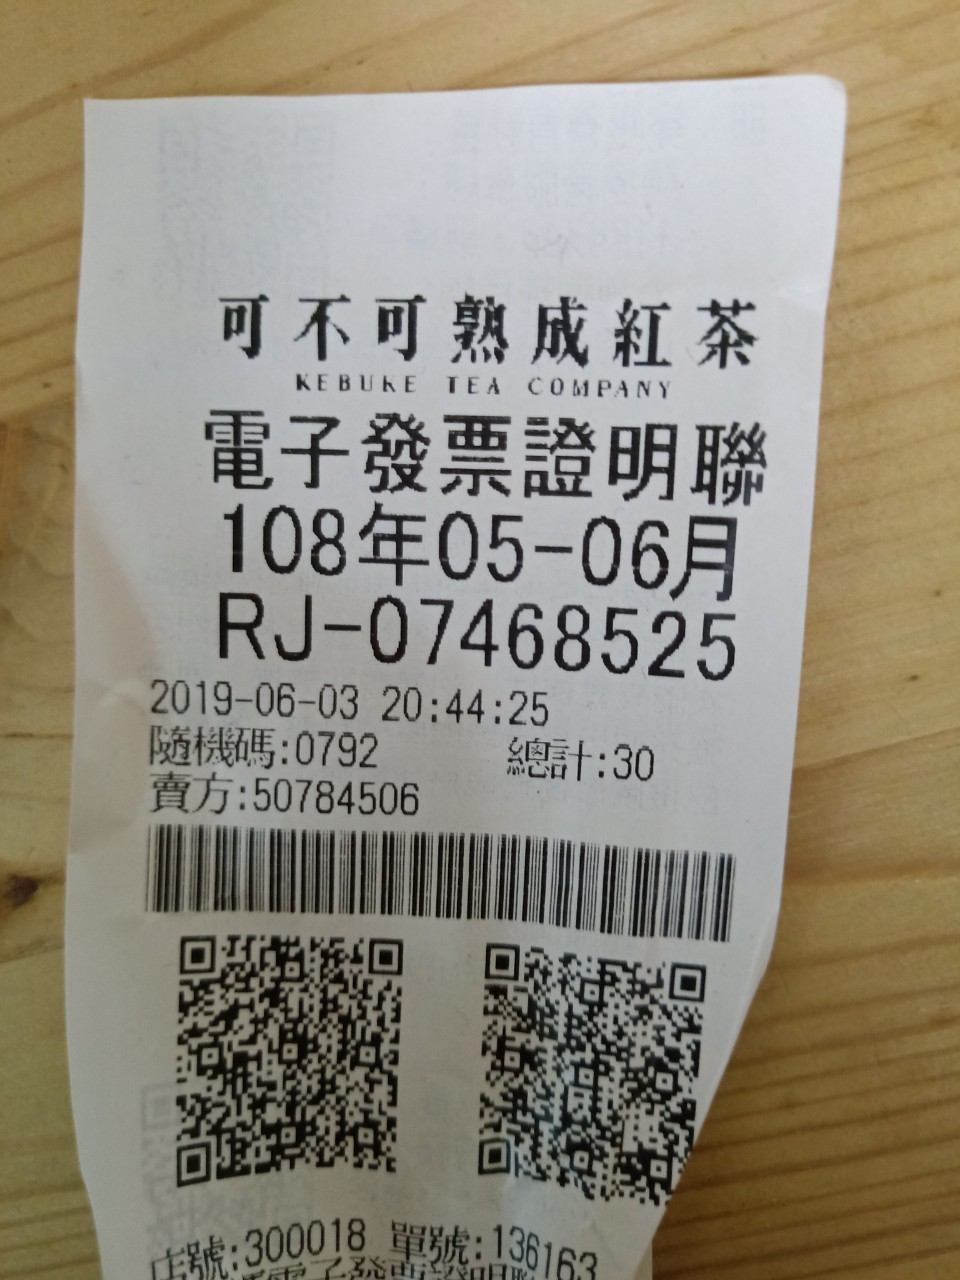Date_New: (215, 502, 743, 603)
Number_New: (366, 593, 738, 684)
